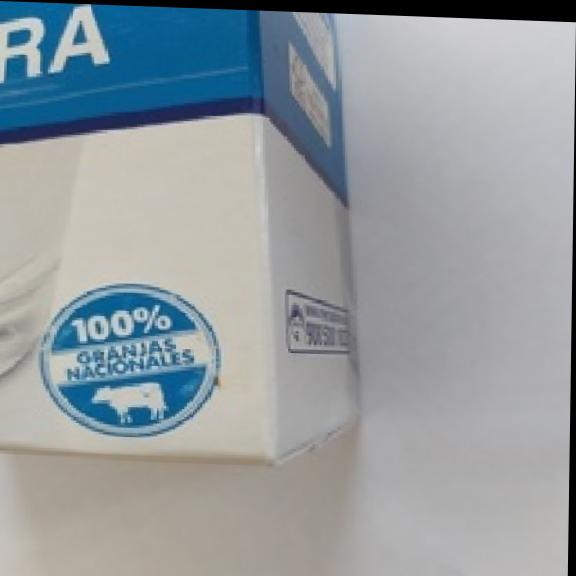Kertas: (0, 3, 351, 463)
